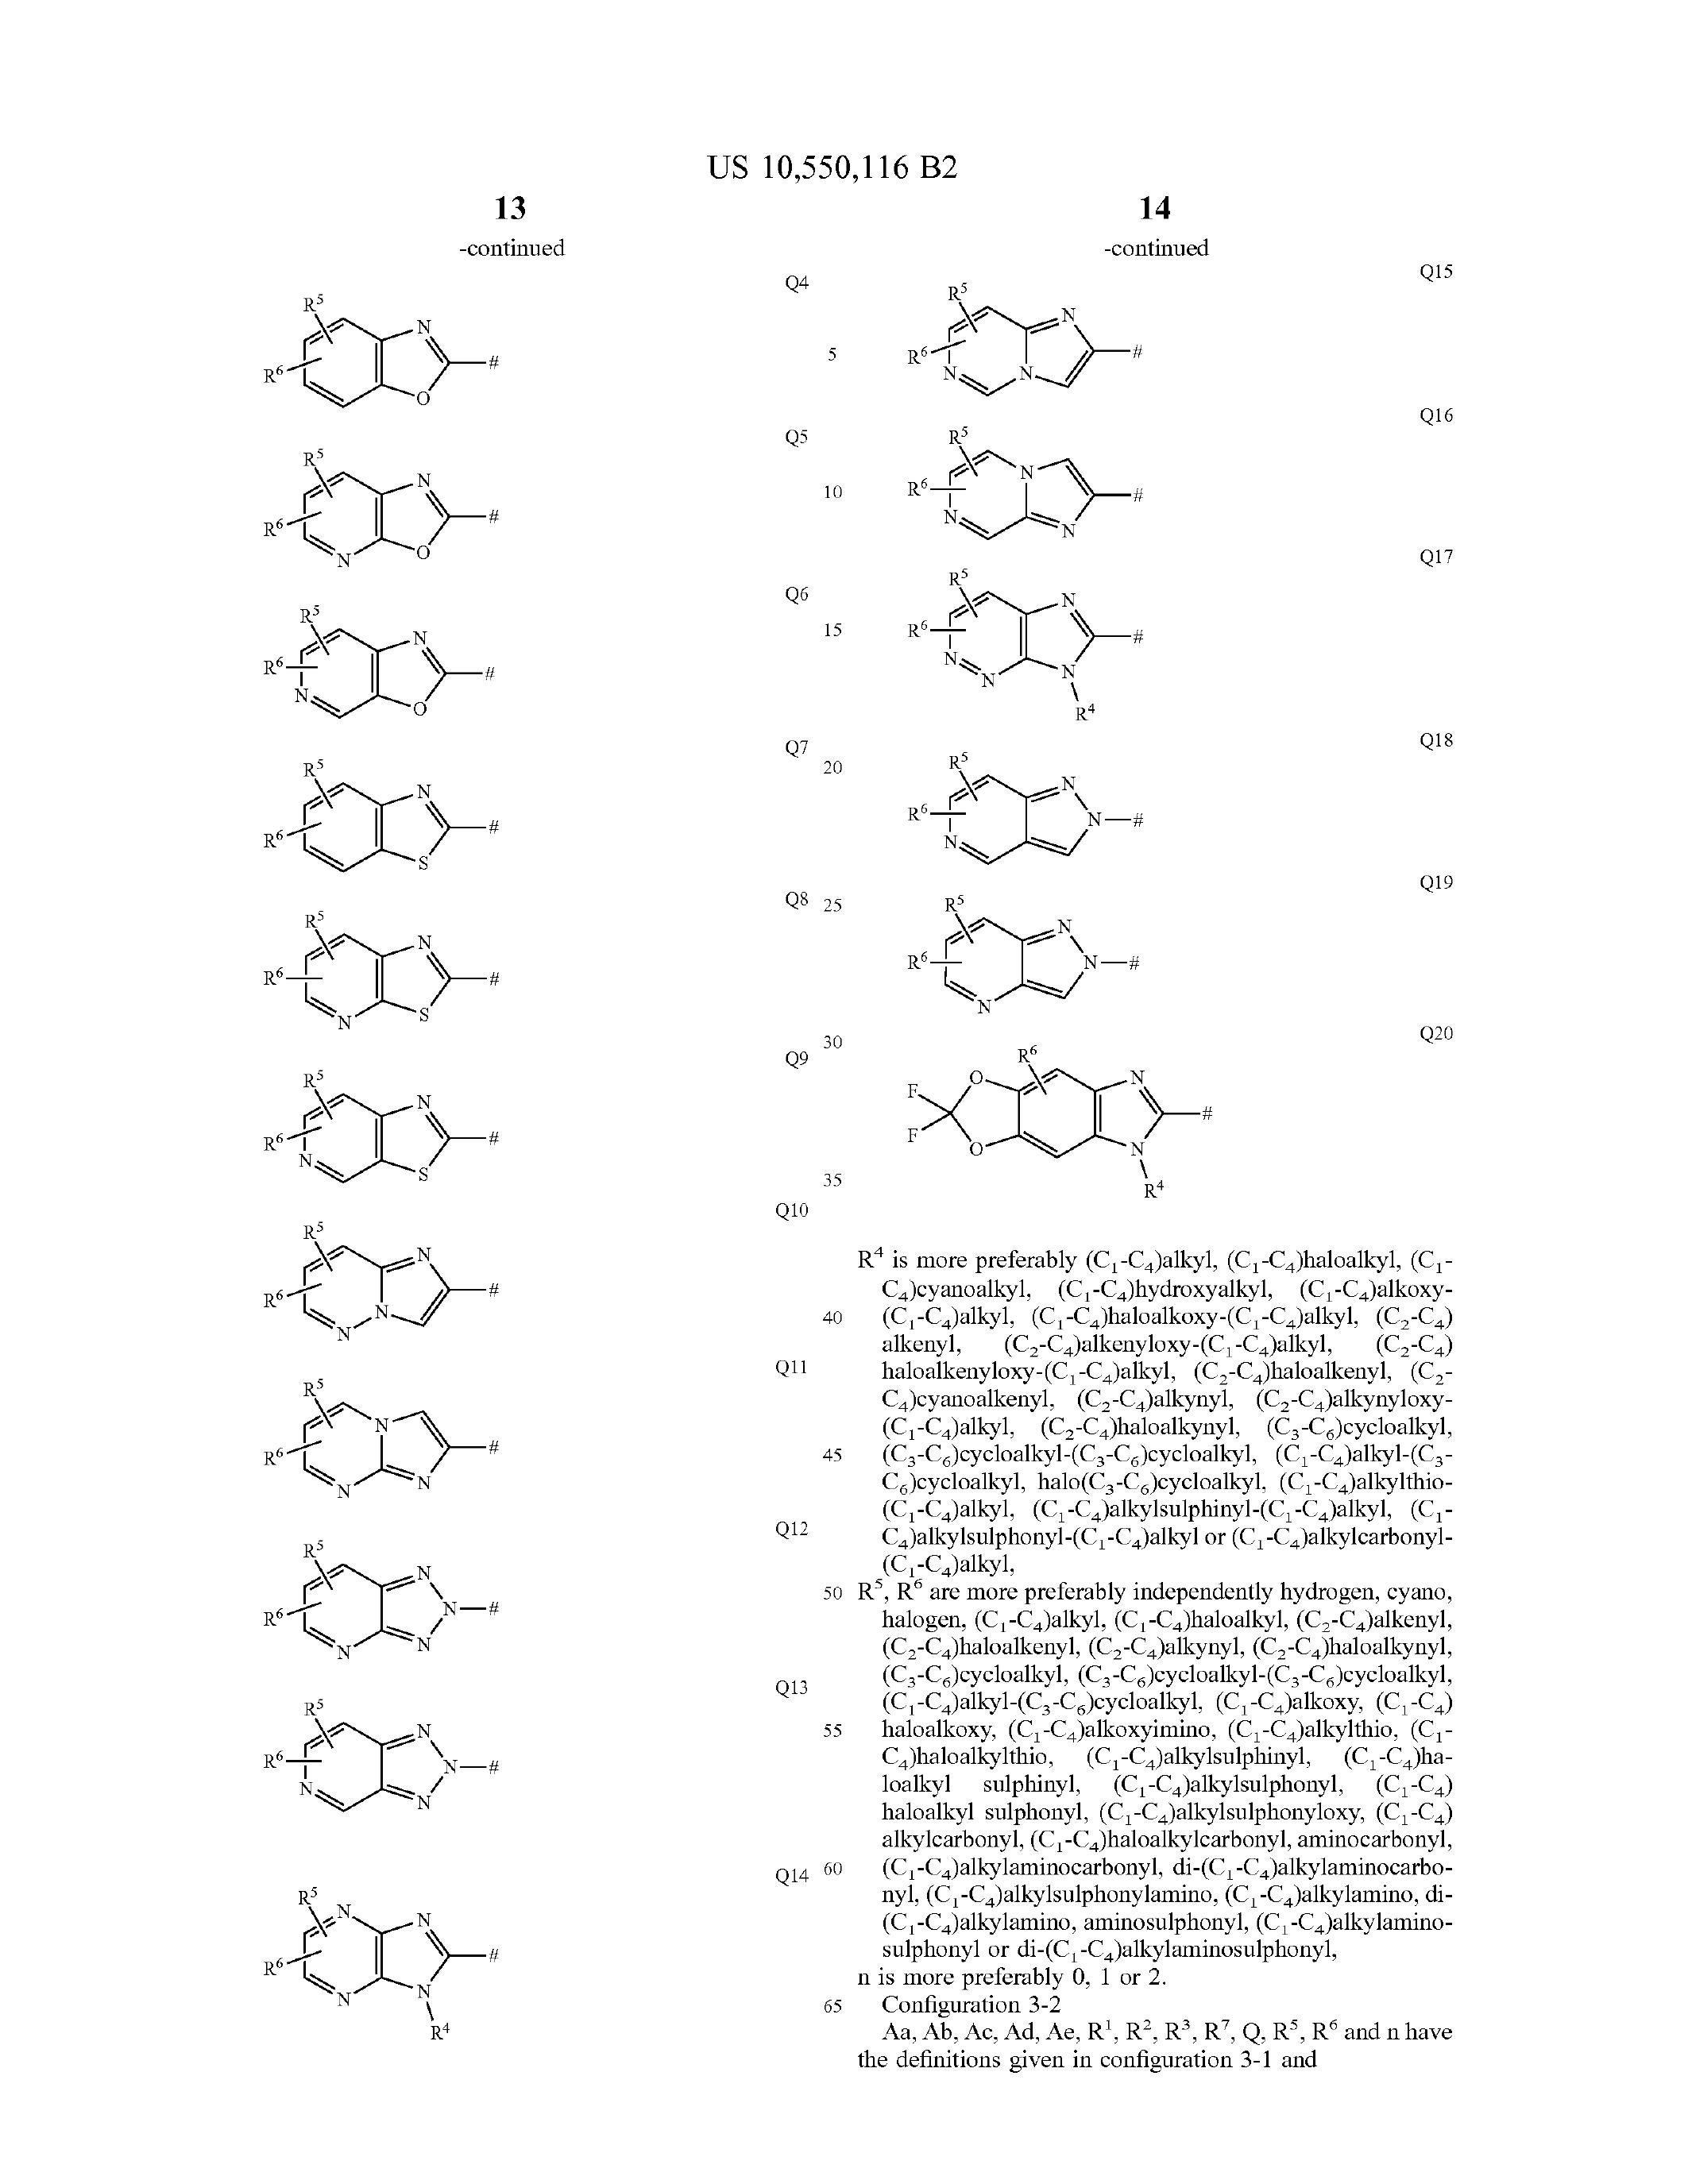substitutes: (853, 883, 1209, 1191), (161, 1803, 534, 2046)
